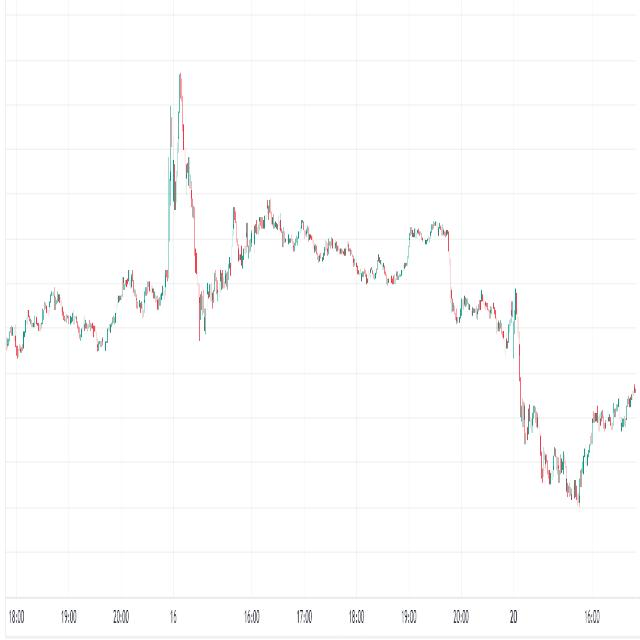Ascending-Triangle: (4, 265, 183, 438)
Descending-Triangle: (232, 153, 383, 269)
Head-Shoulders: (163, 61, 197, 262)
